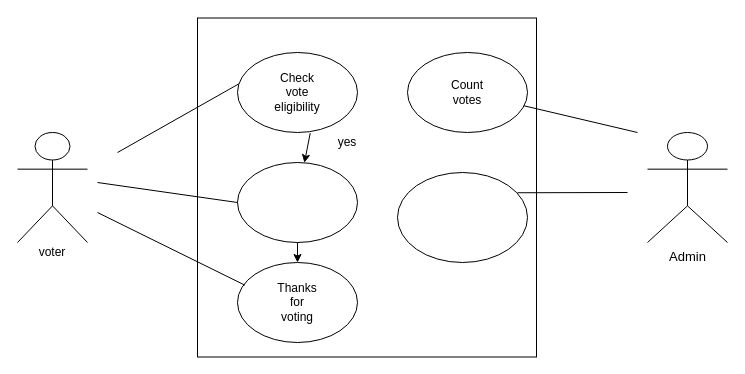
Some shapes in this 745 by 374 pixel diagram are drawn without their labels. The centre of each missing label's shape, as x and y in pixels:
"Declare Leading candidate after completion of voting" goes at (462,217).
"submit vote" goes at (297,202).
